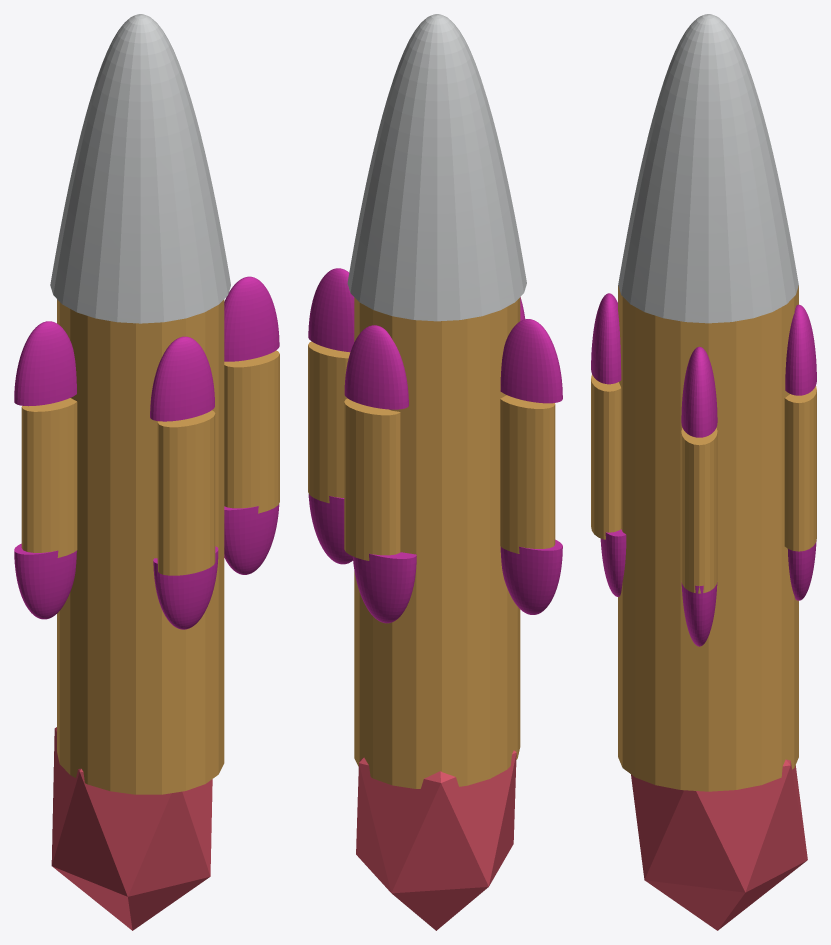
The model's file is stephenrocket.glb.
3 views of the same model, side by side, from view 1: azimuth 30°, elevation 25°; view 2: azimuth 150°, elevation 25°; view 3: azimuth 270°, elevation 25° (orthographic).
Visible parts, largest first — view 1: Mesh_Mesh_head_geo.001_lambert2SG.001; view 2: Mesh_Mesh_head_geo.001_lambert2SG.001; view 3: Mesh_Mesh_head_geo.001_lambert2SG.001.
Part boxes in pixels (x1=…): Mesh_Mesh_head_geo.001_lambert2SG.001: x1=14, y1=14, x2=279, y2=930; Mesh_Mesh_head_geo.001_lambert2SG.001: x1=308, y1=14, x2=562, y2=930; Mesh_Mesh_head_geo.001_lambert2SG.001: x1=591, y1=14, x2=816, y2=930.
Size of the model in its own units: 33 by 112 by 25.
